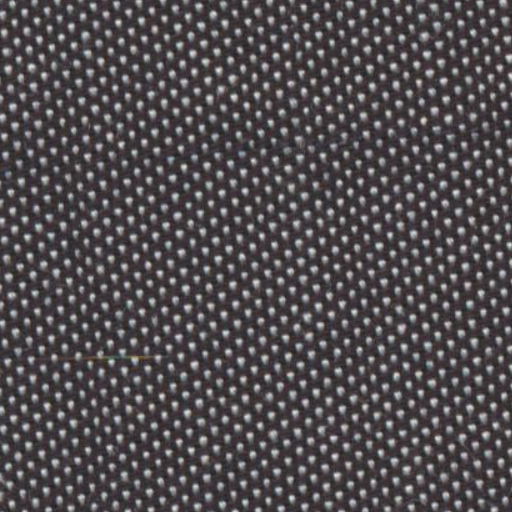TuoSha: (28, 118, 494, 188)
